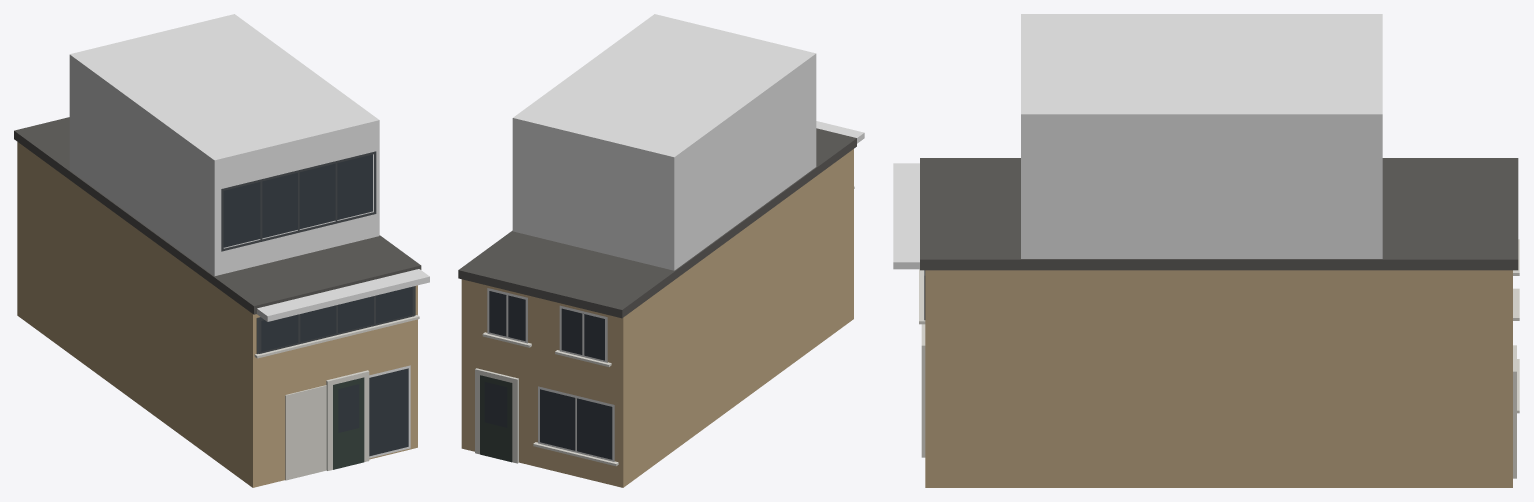
The model's file is nw-nsn-turnhout__buff__2__flat__long__solid.glb.
The picture shows the model from 3 angles, left to right: view 1: azimuth 30°, elevation 25°; view 2: azimuth 150°, elevation 25°; view 3: azimuth 270°, elevation 25°; orthographic projection. The views are drawn at different scales.
Visible parts, largest first — view 1: nw-nsn-turnhout__buff__2__flat__long__solid; view 2: nw-nsn-turnhout__buff__2__flat__long__solid; view 3: nw-nsn-turnhout__buff__2__flat__long__solid.
Boxes of the visible parts, <box> form: nw-nsn-turnhout__buff__2__flat__long__solid: <box>14,14,429,487</box>; nw-nsn-turnhout__buff__2__flat__long__solid: <box>458,14,864,487</box>; nw-nsn-turnhout__buff__2__flat__long__solid: <box>893,14,1519,487</box>.
Size of the model in its own units: 4.53 by 7.75 by 11.77.
